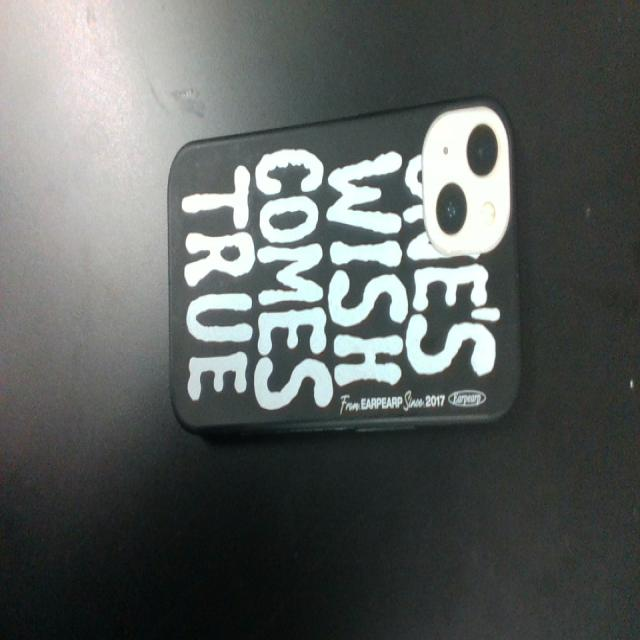phone: (147, 40, 543, 474)
